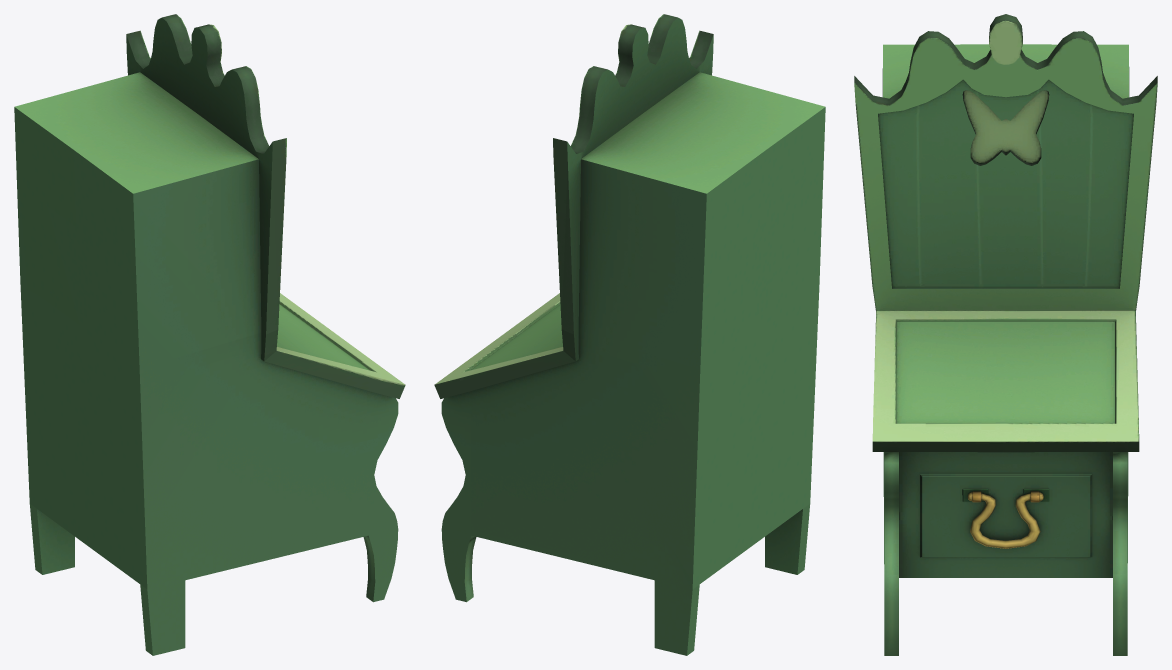
Rendered from desk.glb.
The picture shows the model from 3 angles, left to right: view 1: azimuth 30°, elevation 25°; view 2: azimuth 150°, elevation 25°; view 3: azimuth 270°, elevation 25°; orthographic projection. The views are drawn at different scales.
Visible parts, largest first — view 1: fc_desk.smd; view 2: fc_desk.smd; view 3: fc_desk.smd.
Part boxes in pixels (x1=…): fc_desk.smd: x1=14, y1=14, x2=405, y2=655; fc_desk.smd: x1=434, y1=14, x2=825, y2=655; fc_desk.smd: x1=854, y1=14, x2=1157, y2=655.
Bounding box in the file's own units: 1.21 × 2.41 × 1.15.
Materials: 1 (1 with a texture image).
